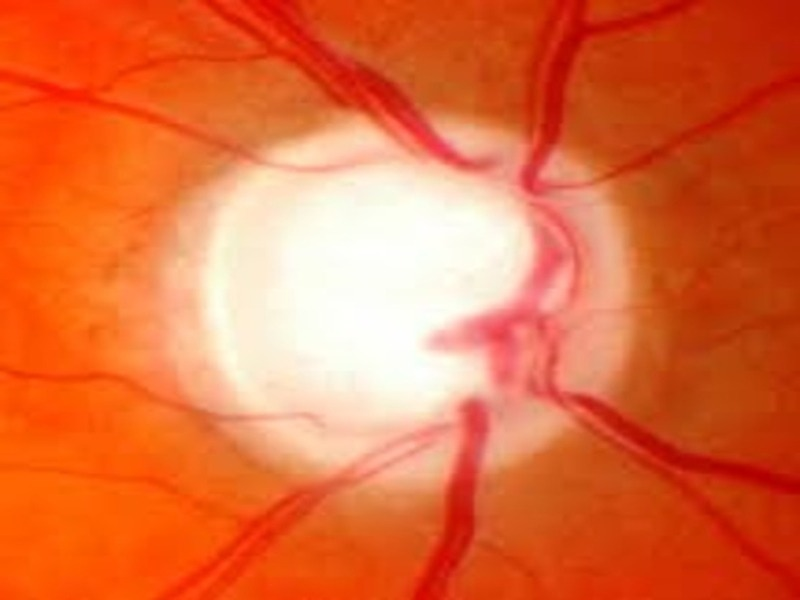Optic Cup: (204, 170, 538, 425)
Optic Disc: (166, 111, 632, 482)
